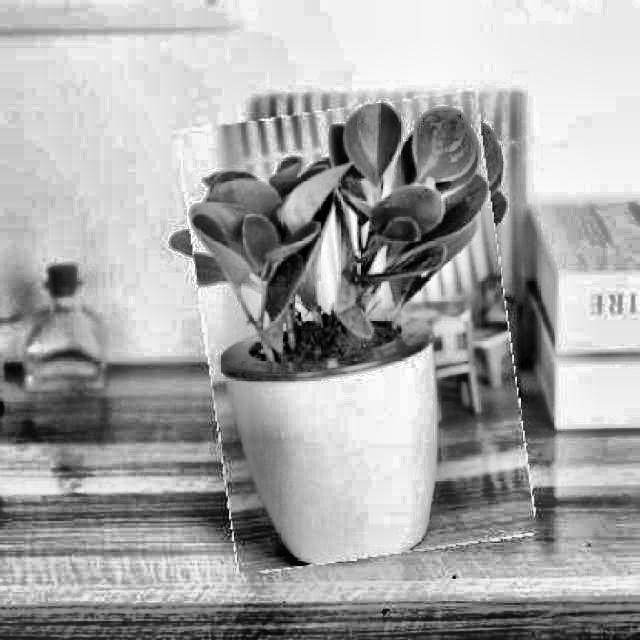plants: (192, 98, 522, 564)
